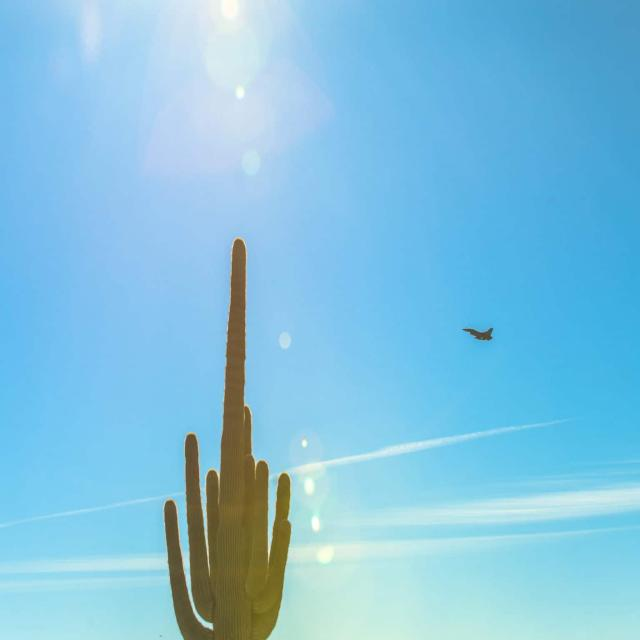MIL_Plane: (462, 327, 494, 341)
